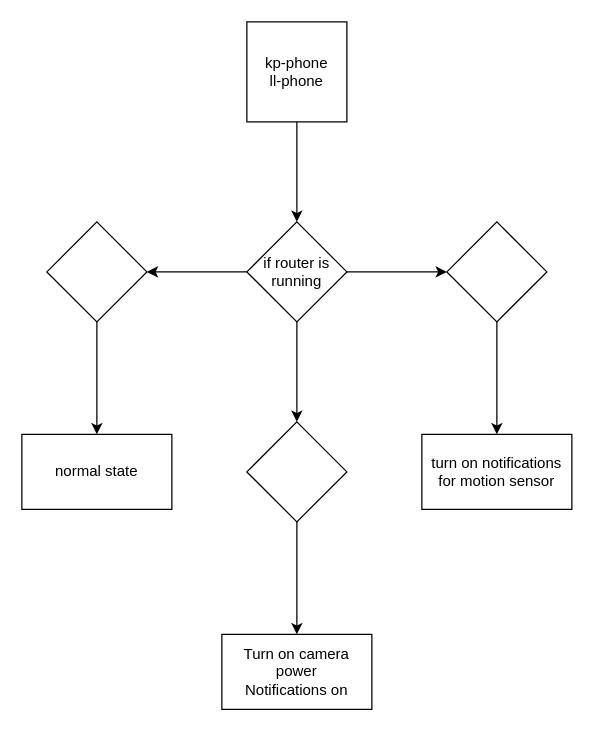
This 594x731 diagram has some shape labels left out. Here are the shapes that lost their labels. From the top down, the centre of each, then its label:
At (96,271): "ll-phone connected".
At (496,271): "kp-phone connected".
At (296,471): "phones ! connected".
